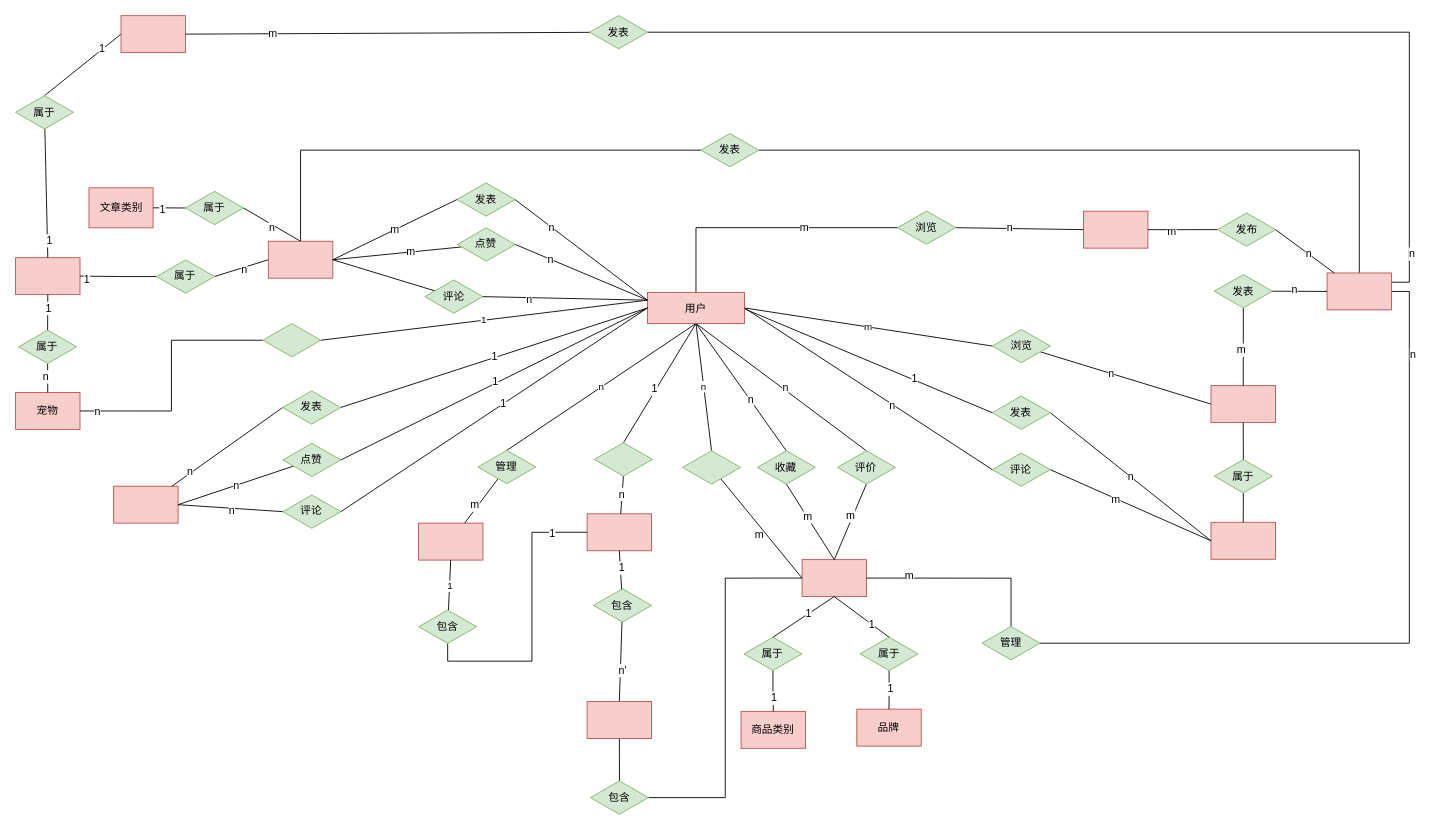
Some shapes in this 1431 by 830 pixel diagram are drawn without their labels. Each missing label, with the box of its shape:
下单: (594, 442, 652, 476)
商品: (801, 559, 867, 597)
宠物百科: (120, 15, 185, 53)
宠物类别: (15, 257, 80, 295)
帖子: (1210, 521, 1275, 559)
收货地址: (418, 522, 483, 560)
文章: (267, 240, 333, 278)
活动: (1083, 210, 1148, 248)
添加: (262, 323, 321, 357)
管理员: (1326, 272, 1392, 310)
订单: (586, 513, 652, 551)
订单明细: (586, 701, 652, 739)
话题: (1210, 385, 1275, 423)
说说: (113, 485, 178, 523)
选购: (682, 450, 741, 484)
